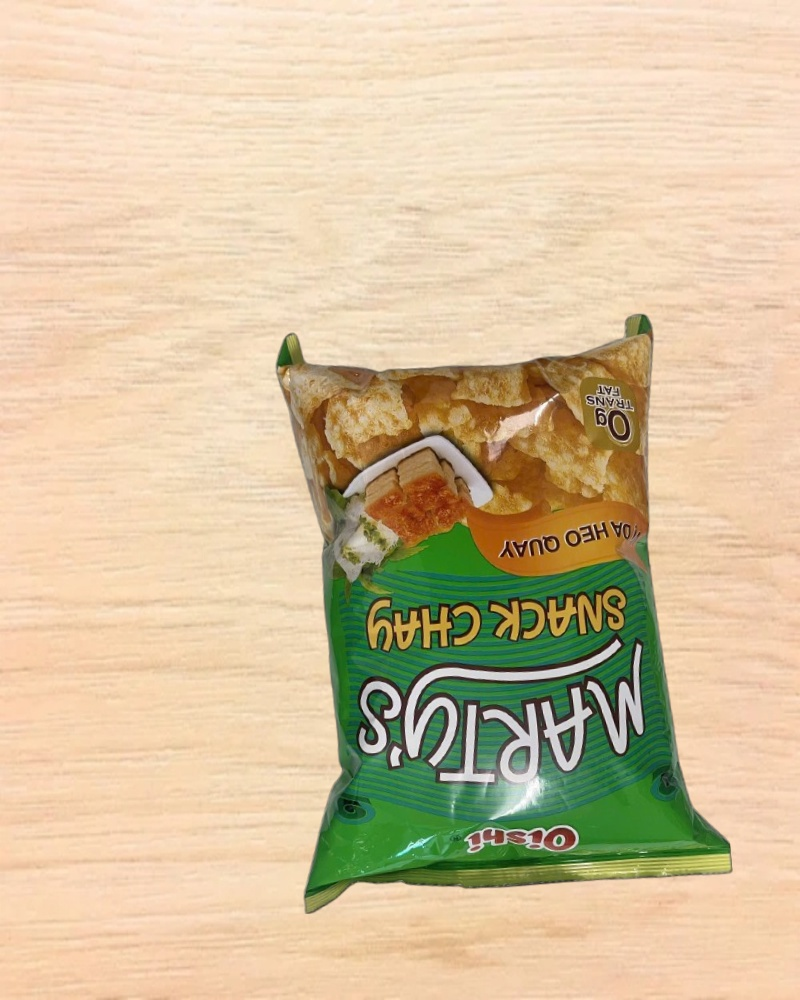Snack chay: (276, 301, 732, 913)
